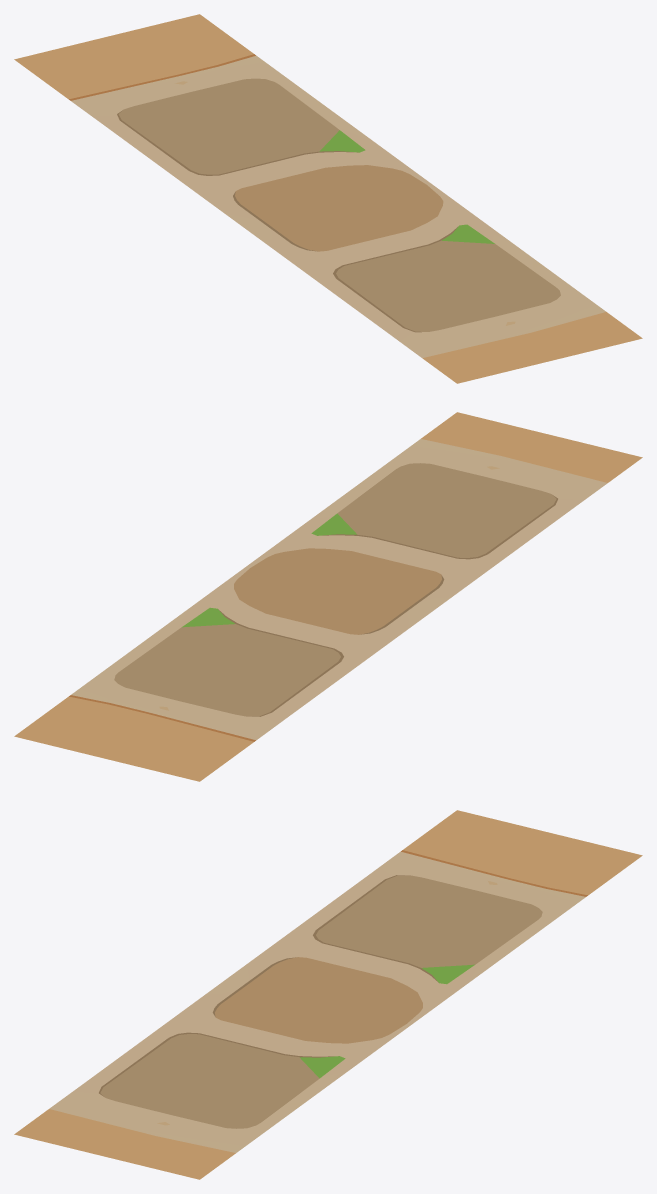
The model's file is west_kuozhan_03.FBX.
3 renders of one model, top to bottom at view 1: azimuth 30°, elevation 25°; view 2: azimuth 150°, elevation 25°; view 3: azimuth 330°, elevation 25°, orthographic.
Parts seen in each view (by area): view 1: west_kuozhan_03; view 2: west_kuozhan_03; view 3: west_kuozhan_03.
Boxes of the visible parts, x1,y1,x2,y2 form: west_kuozhan_03: (14, 14, 642, 383); west_kuozhan_03: (14, 412, 642, 781); west_kuozhan_03: (14, 810, 642, 1179).
Bounding box in the file's own units: 5310 × 4.54 × 21937.
Materials: 1 (1 with a texture image).
